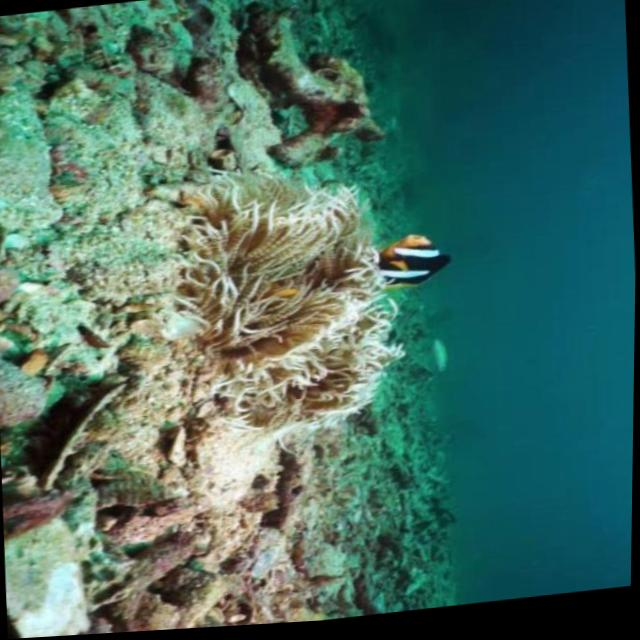Dead Coral: (79, 483, 286, 636), (227, 0, 397, 184), (266, 154, 316, 166)
